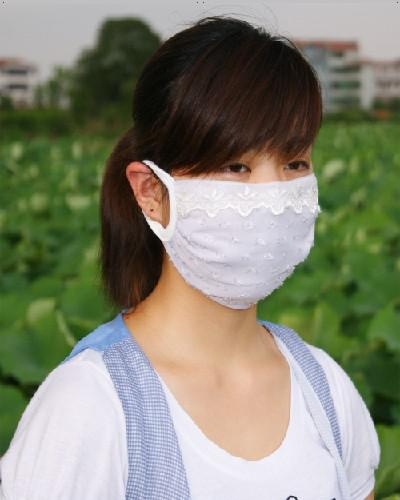OK: (154, 128, 320, 294)
